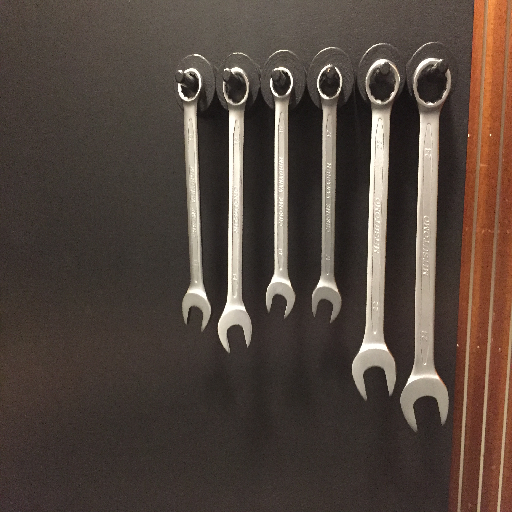bottom: (399, 371, 450, 433), (350, 340, 398, 402), (216, 300, 255, 354), (180, 285, 212, 332), (264, 276, 297, 320), (310, 279, 343, 323)
top: (411, 58, 452, 111), (363, 56, 401, 109), (220, 65, 253, 108), (314, 63, 347, 106), (176, 66, 205, 105), (268, 64, 296, 102)
